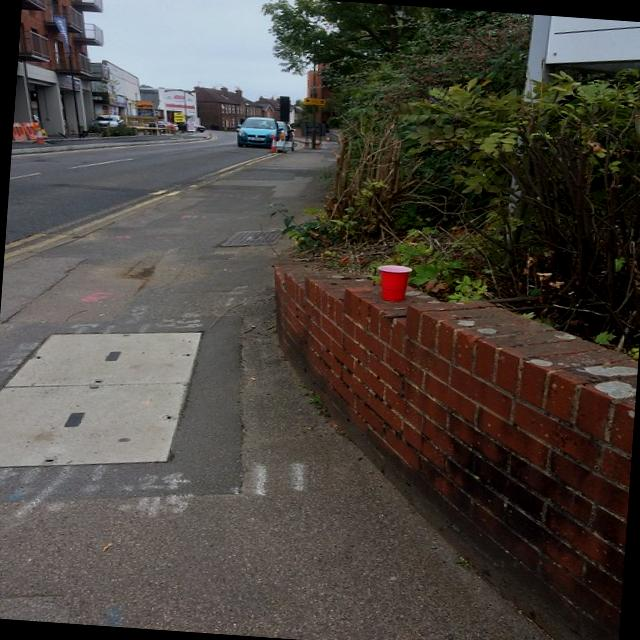Recycle: (372, 262, 414, 304)
